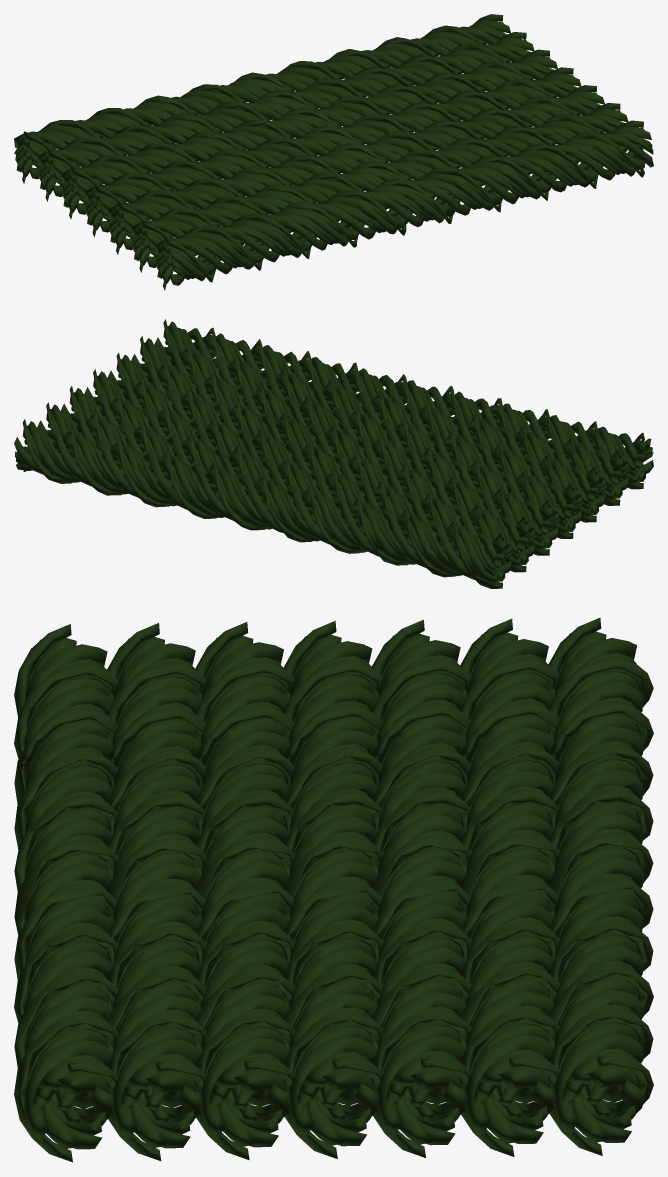
The model's file is ENV_Vine-floor_wide.fbx.
3 renders of one model, top to bottom at view 1: azimuth 30°, elevation 25°; view 2: azimuth 150°, elevation 25°; view 3: azimuth 270°, elevation 25°, orthographic. The views are drawn at different scales.
Parts seen in each view (by area): view 1: Cylinder.032; view 2: Cylinder.032; view 3: Cylinder.032.
Part boxes in pixels (x1,y1,x2,y2): Cylinder.032: [14, 14, 653, 290]; Cylinder.032: [14, 319, 653, 588]; Cylinder.032: [14, 618, 653, 1162].
Size of the model in its own units: 588 by 955 by 108.
